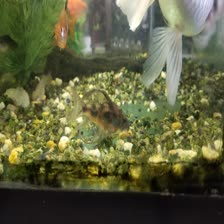Cuezo: (136, 0, 223, 100)
Kiros: (60, 79, 144, 150)
Transparente: (51, 5, 81, 51)
